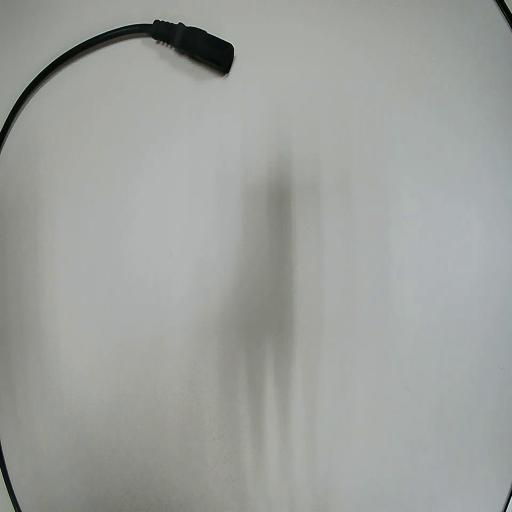wire: (0, 21, 232, 147)
